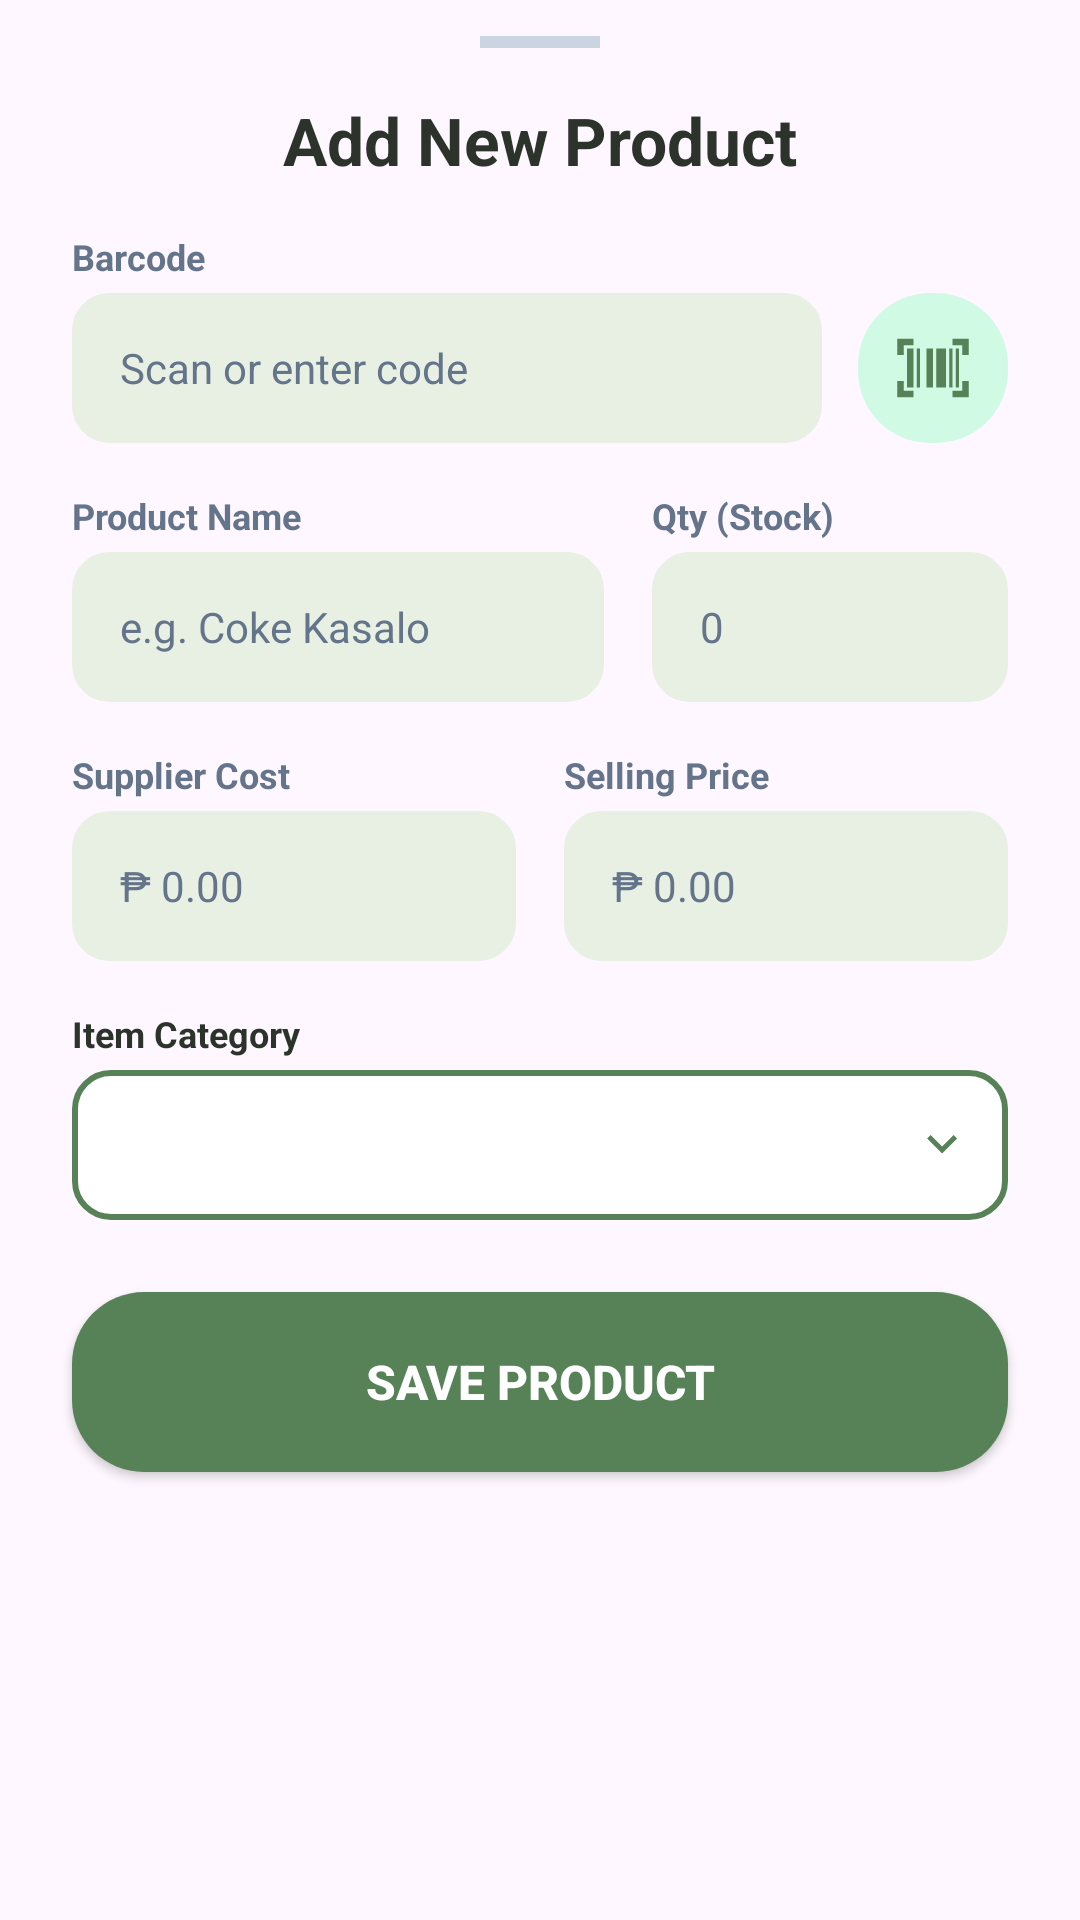

Icons on this 1080*1920 Android screen, each with its box as (x1, y1, x2, y2):
arrow down: (927, 1135, 957, 1154)
barcodescanner: (858, 293, 1008, 443)
